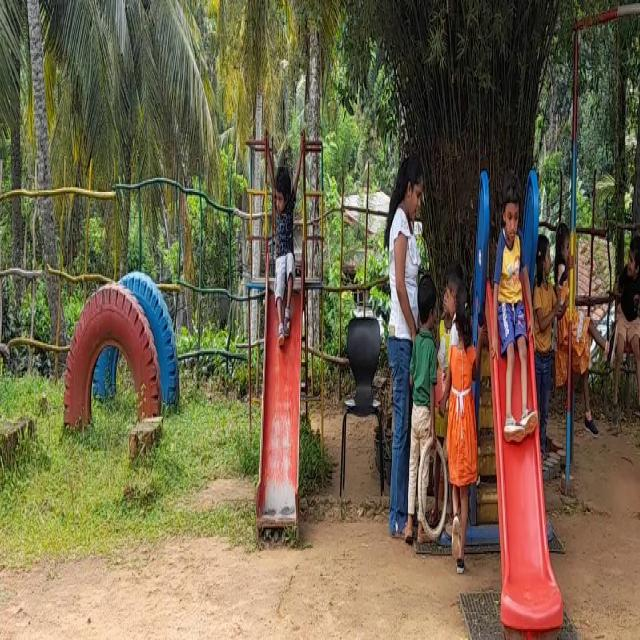adult: (378, 152, 420, 528)
child: (488, 172, 538, 446), (448, 282, 477, 550), (267, 147, 302, 345), (610, 222, 640, 428), (414, 273, 433, 529)
